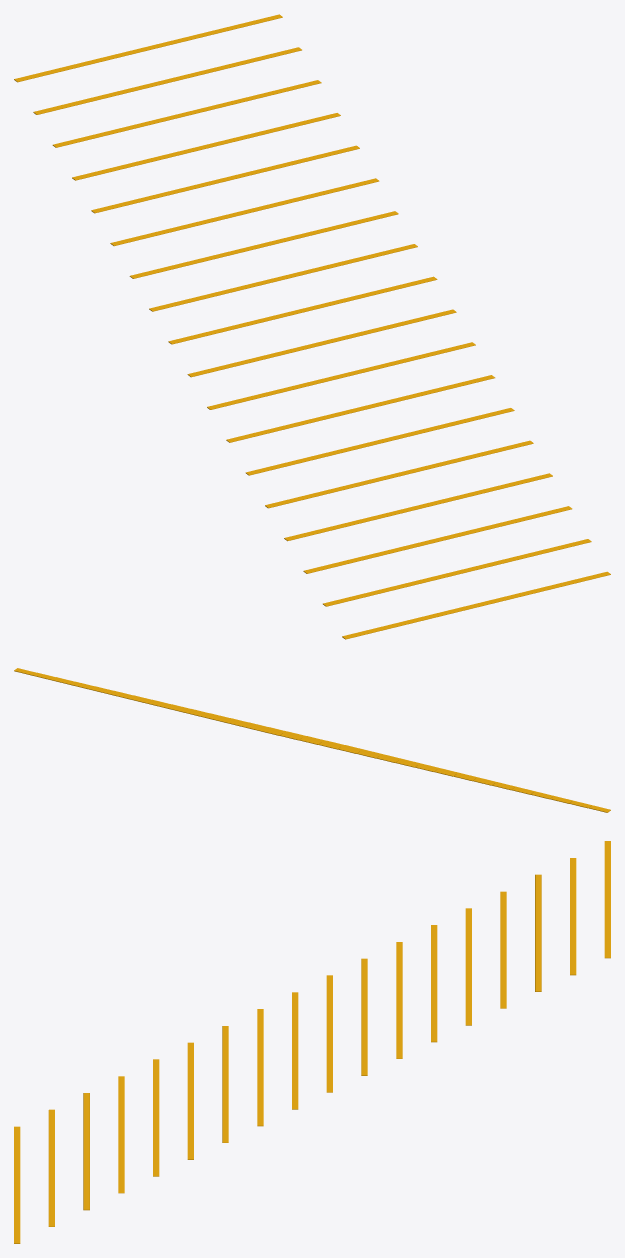
File: gteki_stair_nosing_w2400_n18.glb
3 views of the same model, one above another, from view 1: azimuth 30°, elevation 25°; view 2: azimuth 150°, elevation 25°; view 3: azimuth 270°, elevation 25° (orthographic). The views are drawn at different scales.
Parts seen in each view (by area): view 1: VIS_nosings; view 2: VIS_nosings; view 3: VIS_nosings.
Boxes of the visible parts, x1,y1,x2,y2 form: VIS_nosings: (14, 14, 610, 639); VIS_nosings: (14, 668, 610, 812); VIS_nosings: (14, 841, 610, 1243).
Size of the model in its own units: 2.38 by 2.73 by 5.15.
